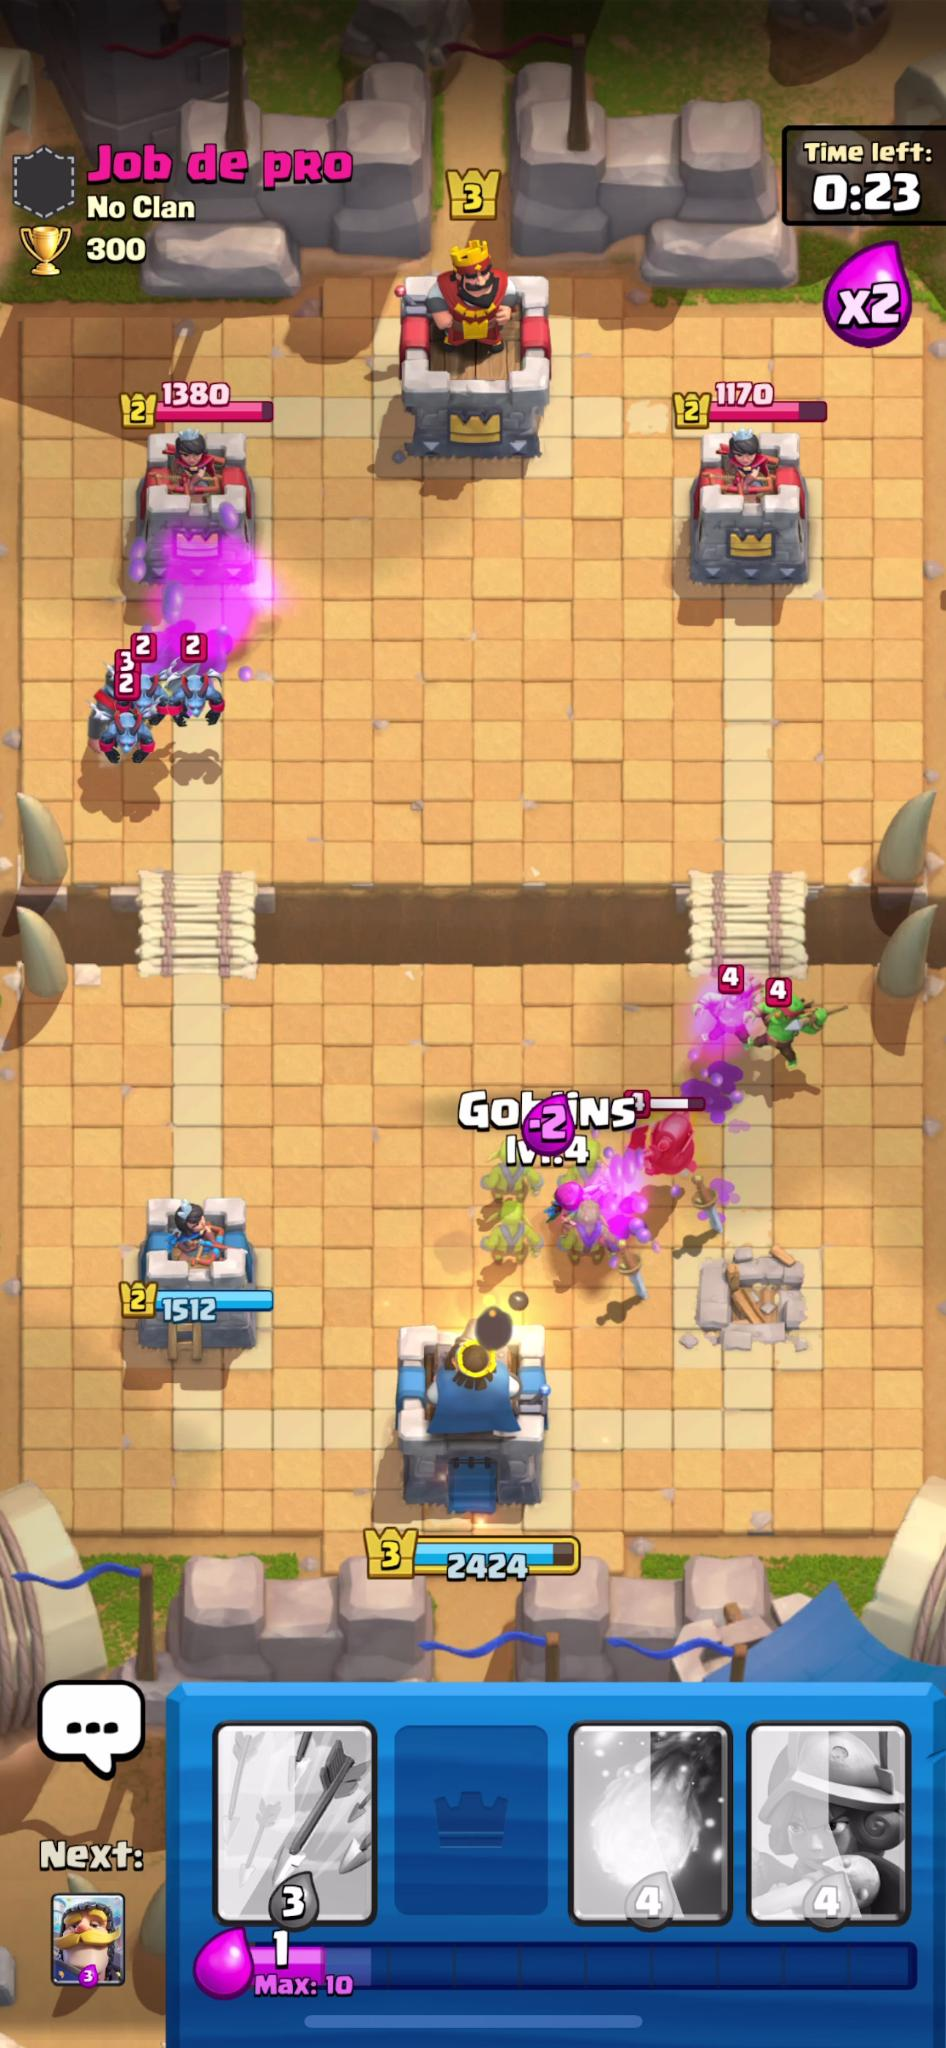archere: (540, 1185, 587, 1238)
gargouille: (169, 660, 223, 728), (108, 703, 159, 771), (84, 688, 129, 756), (131, 673, 175, 728)
gobelin: (755, 989, 818, 1072)
mini_PEKKA: (638, 1117, 702, 1182)
